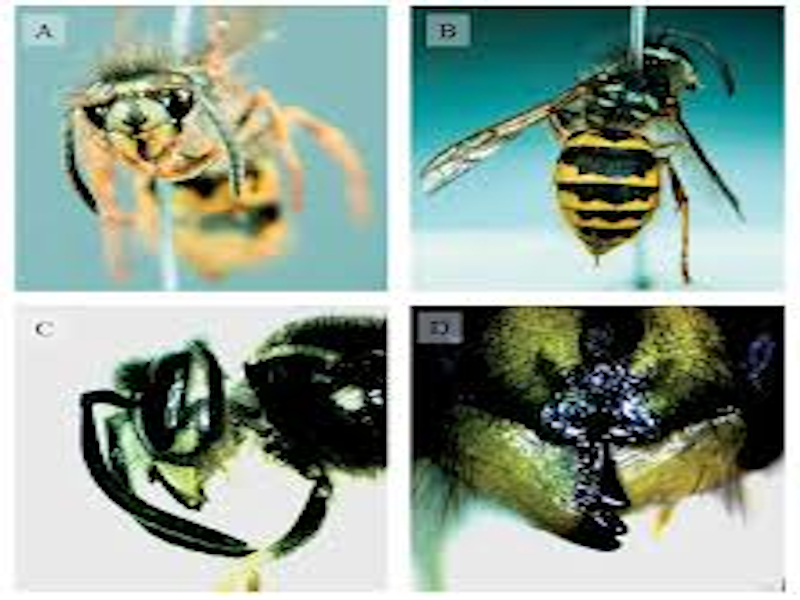chax: (429, 26, 751, 278), (54, 29, 362, 277)
